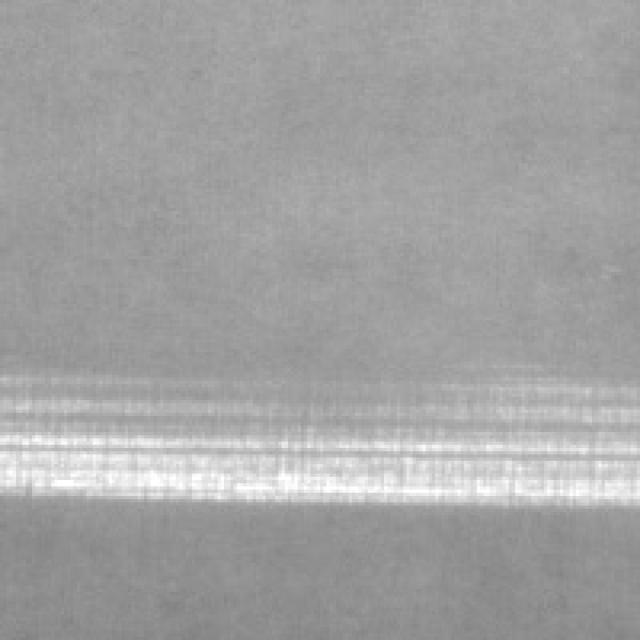scratches: (3, 410, 634, 499)
